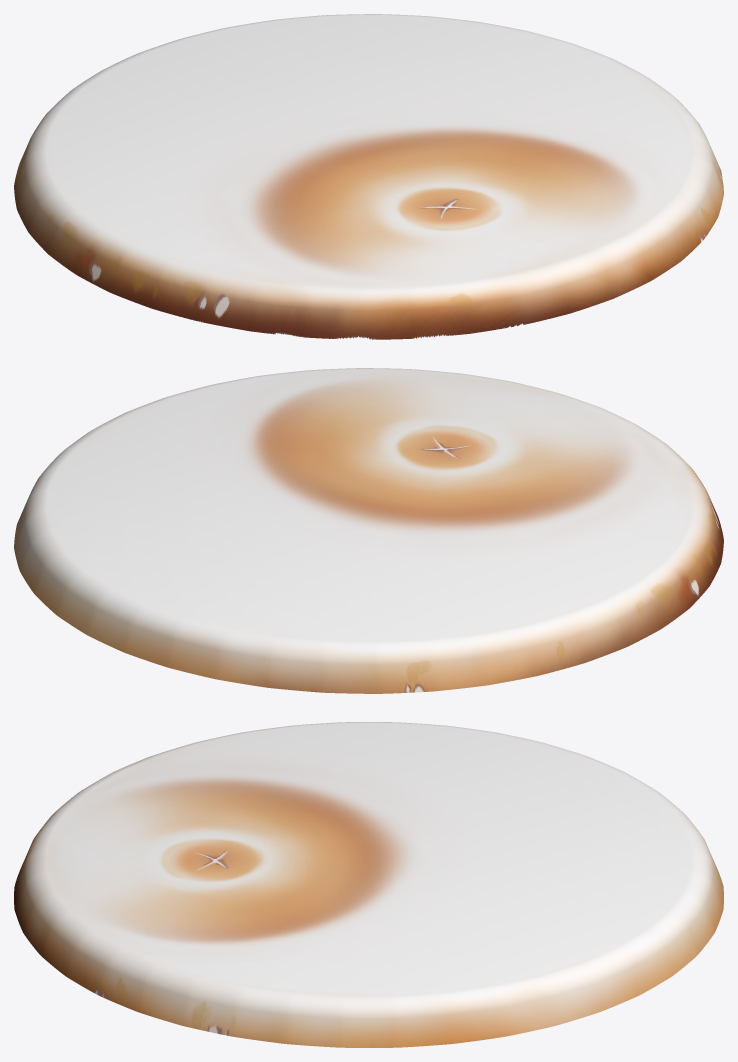
File: CUPGROUND.fbx
3 views of the same model, one above another, from view 1: azimuth 30°, elevation 25°; view 2: azimuth 150°, elevation 25°; view 3: azimuth 270°, elevation 25° (orthographic).
Parts seen in each view (by area): view 1: Cylinder002; view 2: Cylinder002; view 3: Cylinder002.
Part boxes in pixels (<box>): Cylinder002: <box>14,14,723,339</box>; Cylinder002: <box>14,368,723,693</box>; Cylinder002: <box>14,722,723,1047</box>.
Bounding box in the file's own units: 122 × 7.24 × 122.
